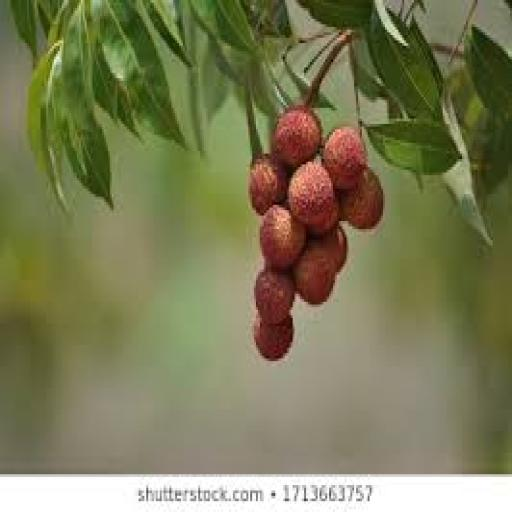lychee: (289, 162, 336, 226), (272, 106, 321, 167), (260, 205, 306, 269), (322, 127, 367, 191), (295, 240, 336, 304), (341, 170, 384, 229), (249, 154, 288, 215), (255, 270, 294, 323), (253, 316, 294, 361), (318, 227, 348, 272), (308, 200, 340, 237)
